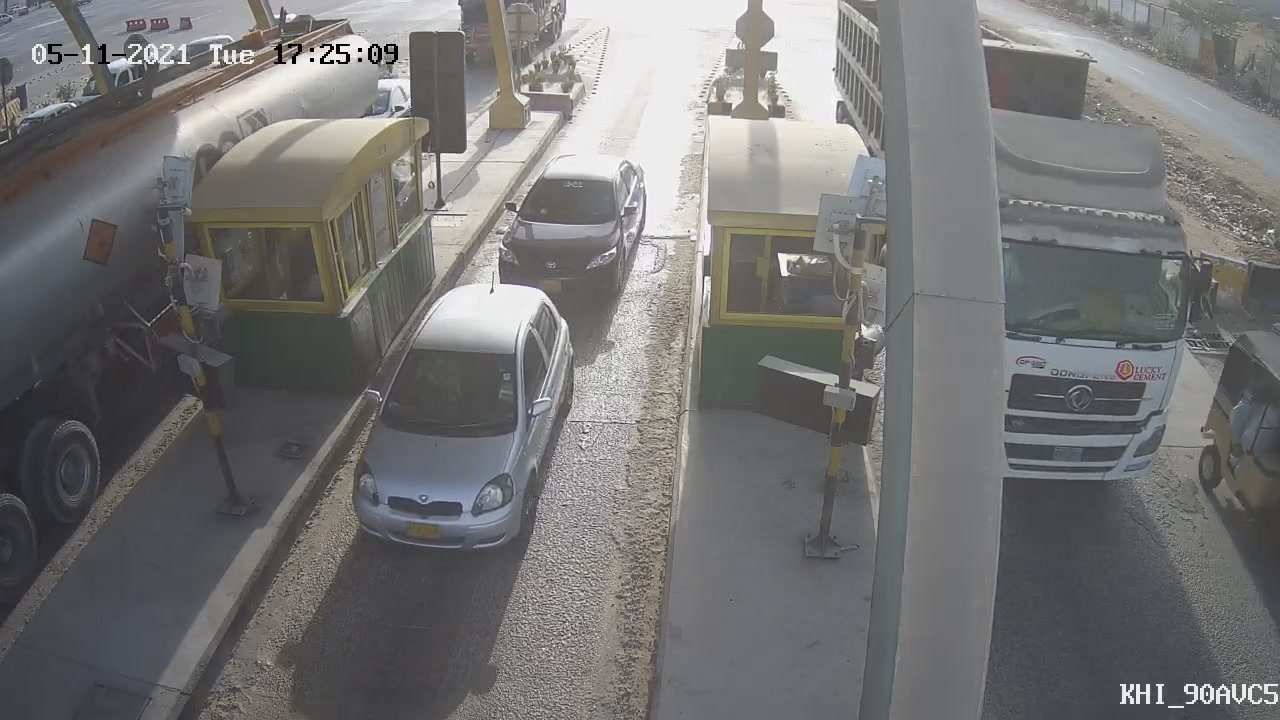F1: (327, 264, 596, 577), (478, 139, 661, 329)
